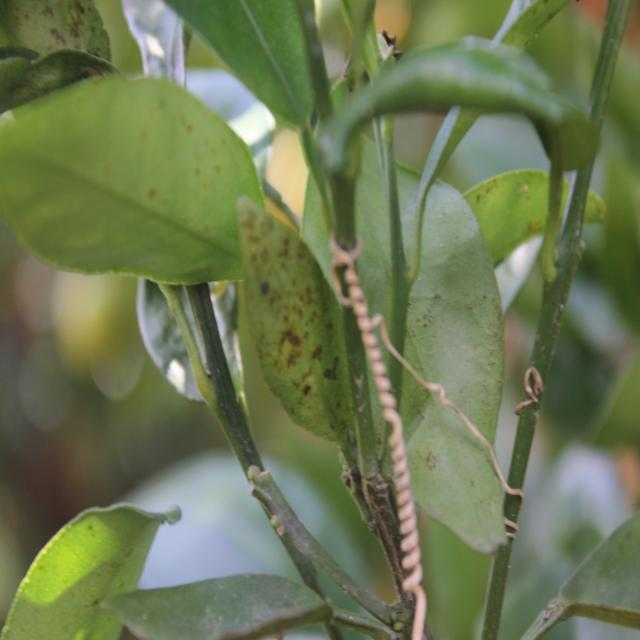melanose: (240, 186, 359, 450), (6, 0, 113, 82)
